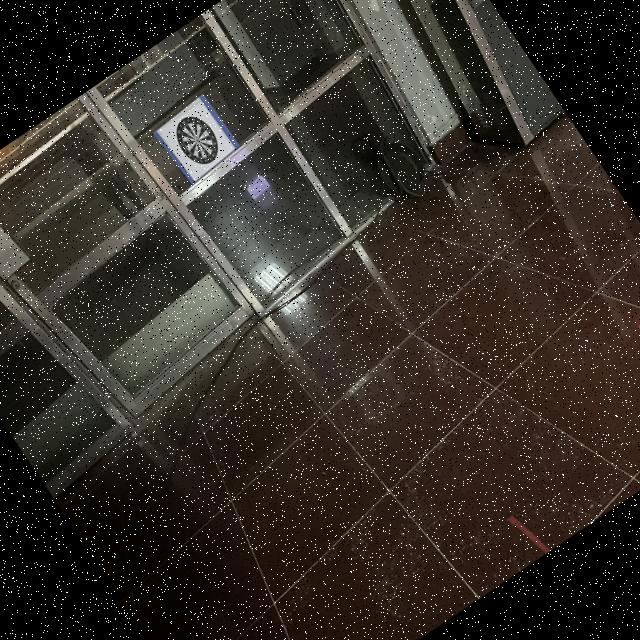archery-targets: (160, 102, 236, 180)
